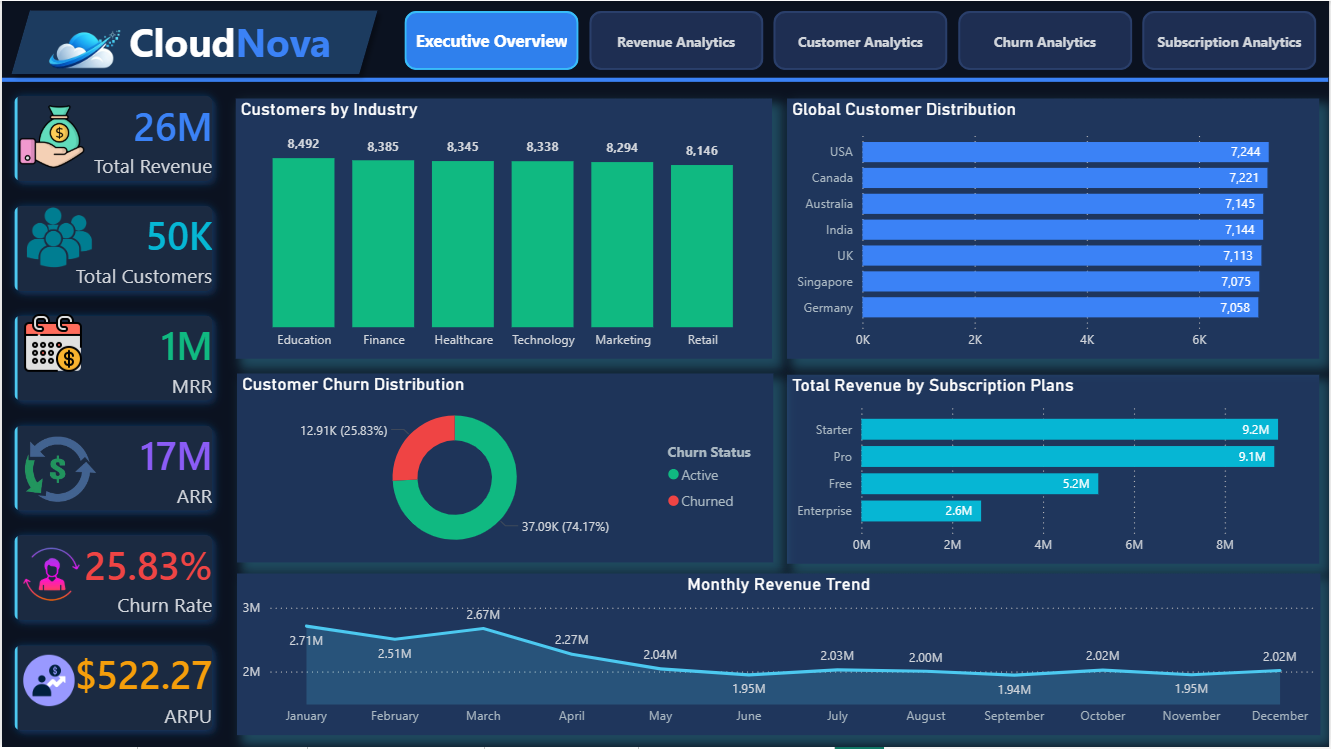

The dashboard page shown, as its layout file describes it:
{"tool":"powerbi","page":{"name":"Executive Overview","canvas":[1280,720],"ordinal":0},"visuals":[{"type":"cardVisual","fields":{"Data":["customers_cleaned.Total Revenue","customers_cleaned.Total Customers","customers_cleaned.MRR","customers_cleaned.ARR","customers_cleaned.Churn Rate","customers_cleaned.ARPU"]},"box":[0,80,215,640],"z":0},{"type":"shape","box":[0,57.5,1280,36.2],"z":1000},{"type":"image","box":[12.1,94.1,72.4,73.6],"z":2000},{"type":"image","box":[21.7,194.2,67.6,67.6],"z":3000},{"type":"image","box":[7.2,299.2,84.5,61.5],"z":4000},{"type":"image","box":[21.7,416.2,70,71.2],"z":5000},{"type":"image","box":[20.5,523.6,54.3,59.1],"z":6000},{"type":"clusteredBarChart","title":"Total Revenue by Subscription Plans","fields":{"Category":["subscriptions_cleaned.plan_name"],"Y":["customers_cleaned.Total Revenue"]},"box":[757.6,360.7,513.9,182.2],"z":7000},{"type":"clusteredColumnChart","title":"Customers by Industry","fields":{"Category":["customers_cleaned.industry"],"Y":["CountNonNull(customers_cleaned.customer_id)"]},"box":[225.6,94.1,517.6,250.9],"z":8000},{"type":"clusteredBarChart","title":"Global Customer Distribution","fields":{"Category":["customers_cleaned.country"],"Y":["CountNonNull(customers_cleaned.customer_id)"]},"box":[757.6,94.1,513.9,250.9],"z":9000},{"type":"donutChart","title":"Customer Churn Distribution","fields":{"Category":["customers_cleaned.Churn Status"],"Y":["CountNonNull(customers_cleaned.customer_id)"]},"box":[226.8,359.5,517.6,182.2],"z":10000},{"type":"areaChart","title":"Monthly Revenue Trend","fields":{"Category":["Date_Table.Month"],"Y":["customers_cleaned.Total Revenue"]},"box":[226.8,552.5,1046,155.6],"z":11000},{"type":"pageNavigator","box":[388.5,9.7,884.3,57.9],"z":12000},{"type":"shape","box":[0,0,371.6,79.6],"z":13000},{"type":"textbox","box":[94.1,9.7,252.1,70],"z":14000},{"type":"image","box":[0,0,158,94.1],"z":15000},{"type":"image","box":[20.5,631,49.5,49.5],"z":16000}]}

Visuals, with their boxes in screenshot pixels (x1, y1, x2, y2), scaled from the page's 1280x720 canvas onto the 1331x749 screenshot:
cardVisual - customers_cleaned.Total Revenue x customers_cleaned.Total Customers: <region>0, 83, 224, 748</region>
shape: <region>0, 60, 1330, 97</region>
image: <region>13, 98, 88, 174</region>
image: <region>23, 202, 93, 272</region>
image: <region>7, 311, 95, 375</region>
image: <region>23, 433, 95, 507</region>
image: <region>21, 545, 78, 606</region>
"Total Revenue by Subscription Plans" clusteredBarChart: <region>788, 375, 1322, 565</region>
"Customers by Industry" clusteredColumnChart: <region>235, 98, 773, 359</region>
"Global Customer Distribution" clusteredBarChart: <region>788, 98, 1322, 359</region>
"Customer Churn Distribution" donutChart: <region>236, 374, 774, 564</region>
"Monthly Revenue Trend" areaChart: <region>236, 575, 1324, 737</region>
pageNavigator: <region>404, 10, 1324, 70</region>
shape: <region>0, 0, 386, 83</region>
textbox: <region>98, 10, 360, 83</region>
image: <region>0, 0, 164, 98</region>
image: <region>21, 656, 73, 708</region>
